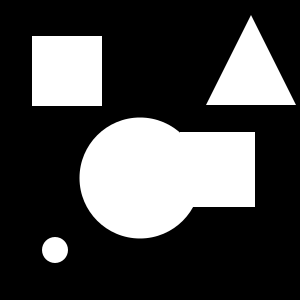circle: (180, 132, 255, 207), (32, 36, 102, 106)
rectangle: (80, 118, 200, 238), (42, 237, 68, 263)
triangle: (206, 15, 296, 105)
